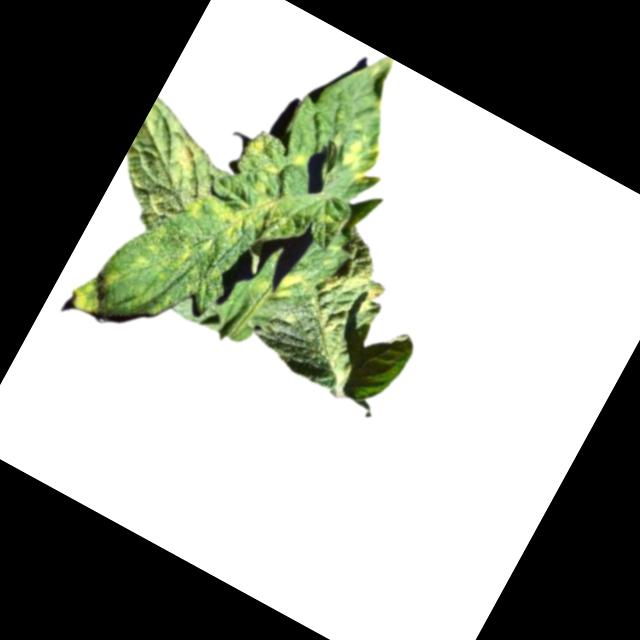Leaf_Mold: (177, 148, 292, 261), (298, 252, 391, 350), (63, 253, 125, 321), (330, 125, 389, 190), (161, 132, 216, 187), (263, 265, 310, 314)
